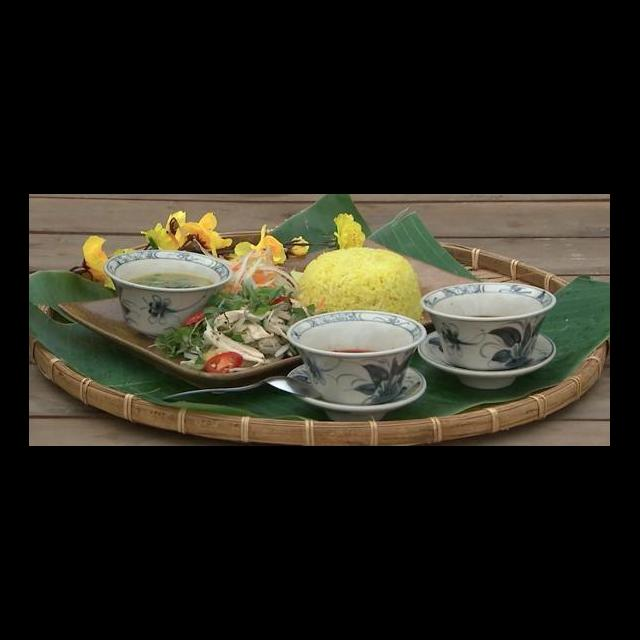com: (294, 244, 428, 329)
com ga: (90, 230, 437, 440)
rau ram: (200, 276, 294, 317), (152, 320, 208, 367)
thit ga: (196, 302, 296, 374)
